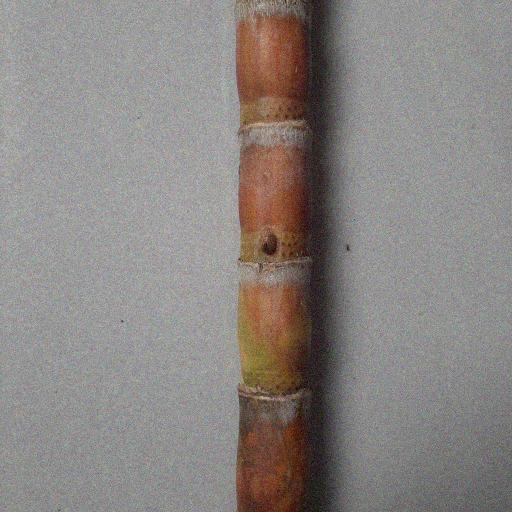Bud: (258, 230, 278, 256)
